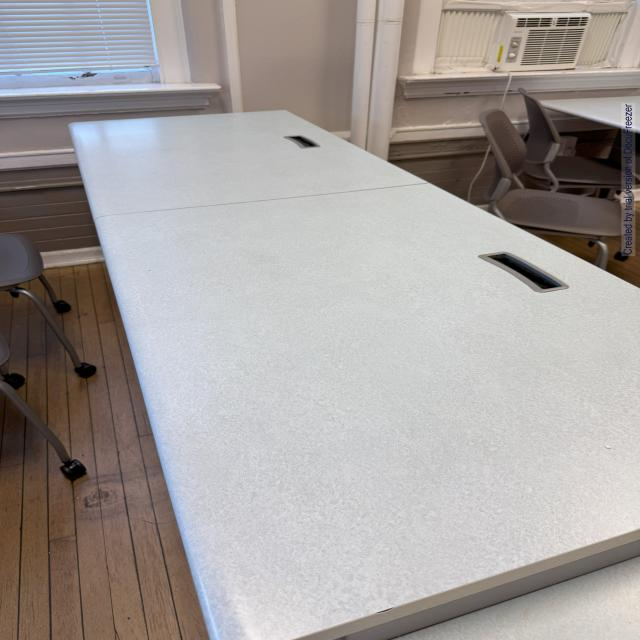Table: (67, 103, 640, 639)
